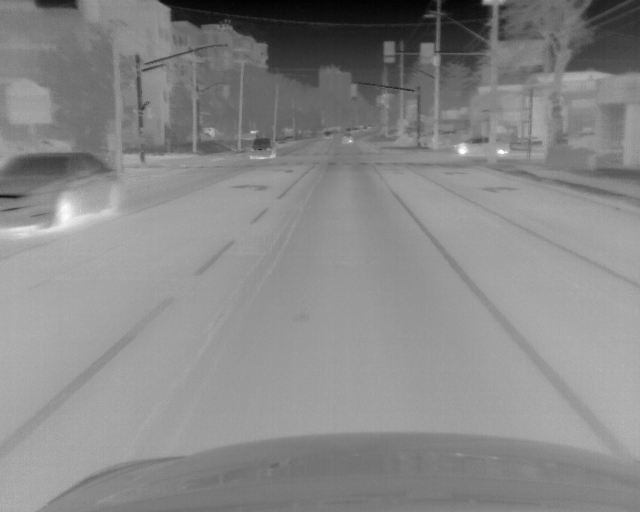car: (1, 149, 123, 234), (454, 135, 510, 157), (249, 136, 275, 161), (341, 132, 354, 145), (322, 129, 334, 141)
